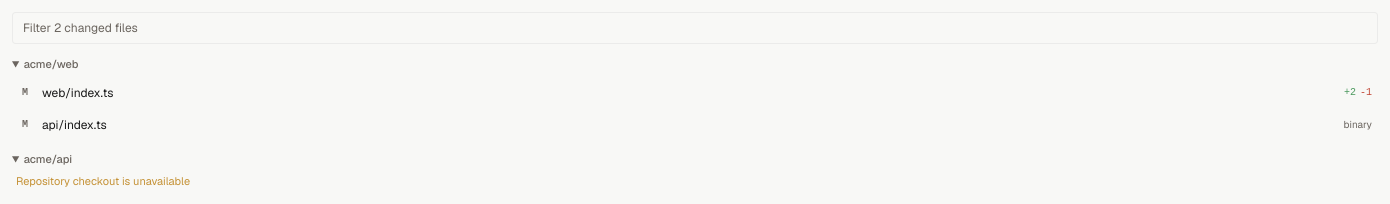
Test case: FilesChangedSection › filters the changed-file tree by path
Type "api/" into the search field named "Filter changed files".
click(695, 28); type("api/")  # box [12,12,1378,44]
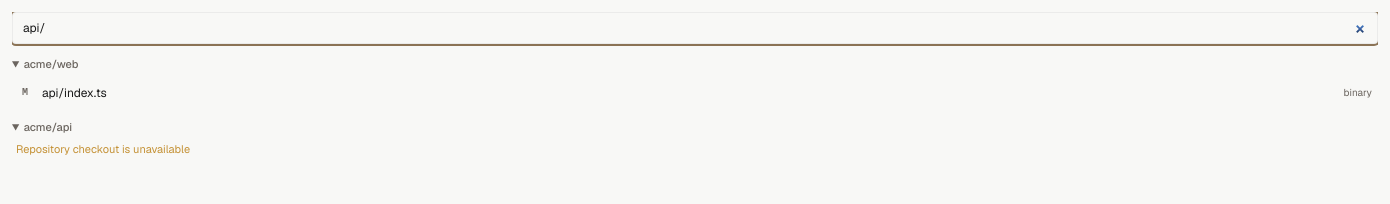
Check: the button "M api/index.ts binary" is shown, box [16,78,1378,106]
Check: the button "web/index.ts" is gone
